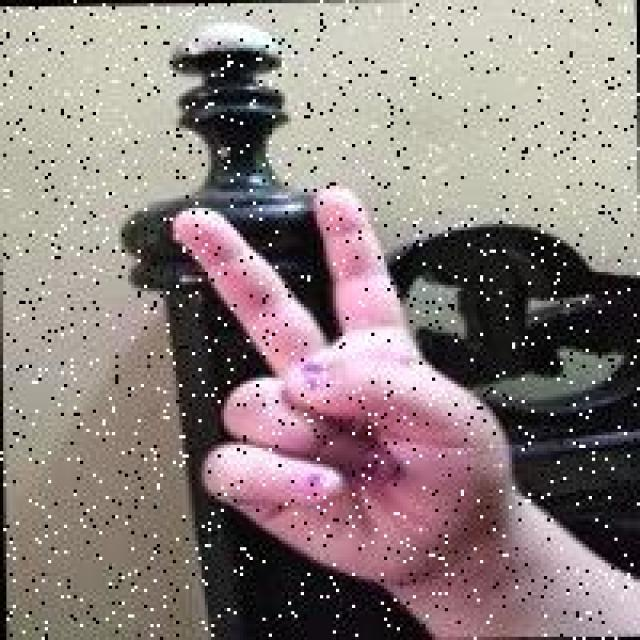V: (166, 173, 522, 602)
